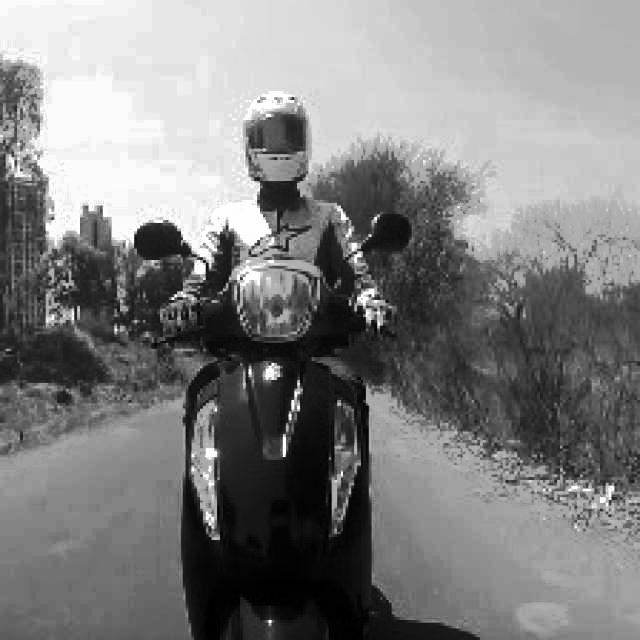Bike: (162, 234, 397, 640)
